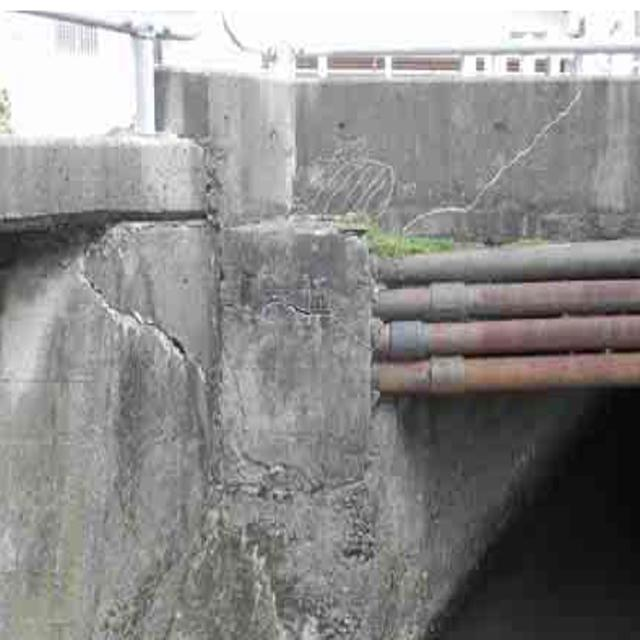crack: (73, 241, 216, 406), (213, 440, 377, 513), (258, 280, 368, 351)
